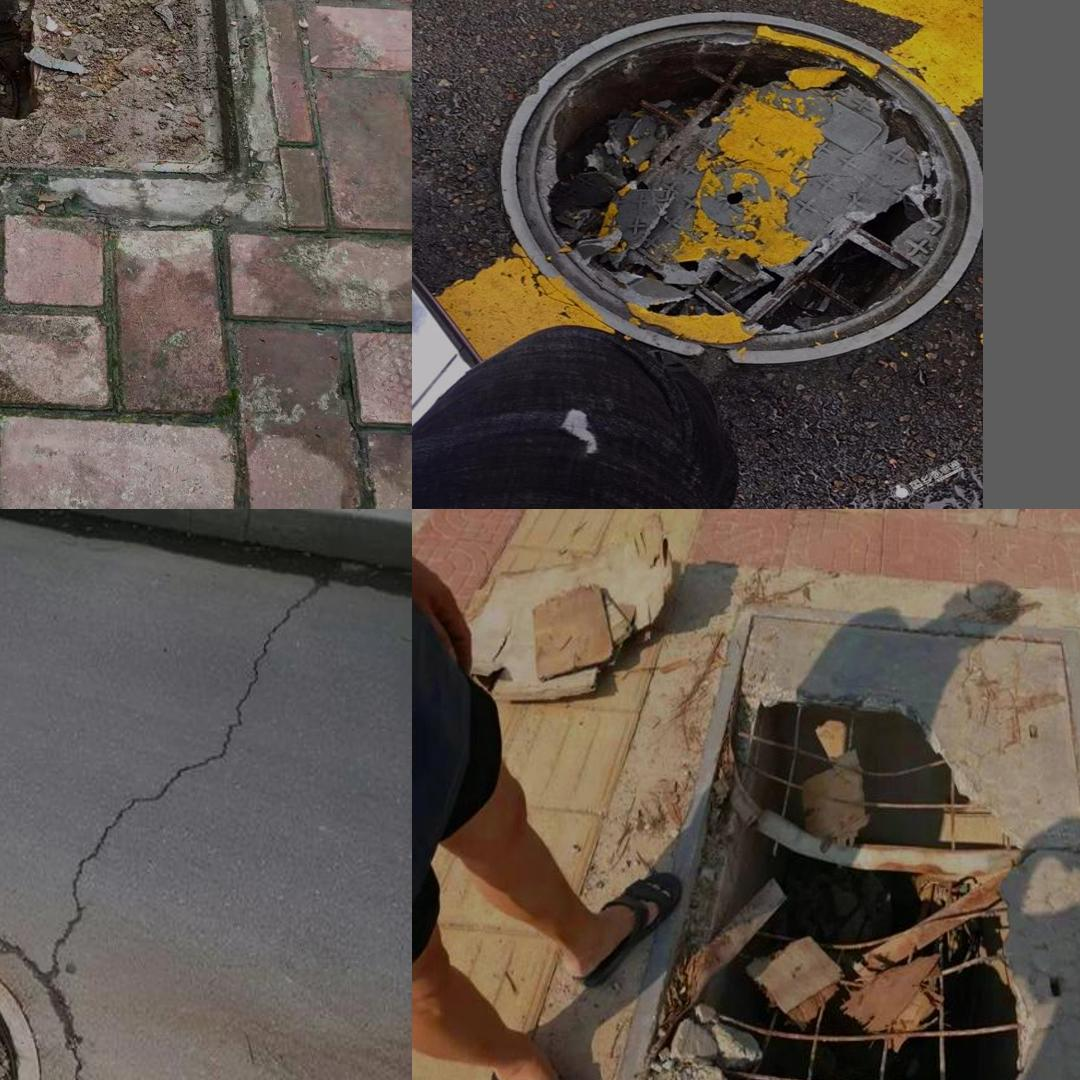broke: (615, 600, 1080, 1080), (475, 0, 960, 359), (0, 0, 254, 178), (0, 881, 108, 1080)
